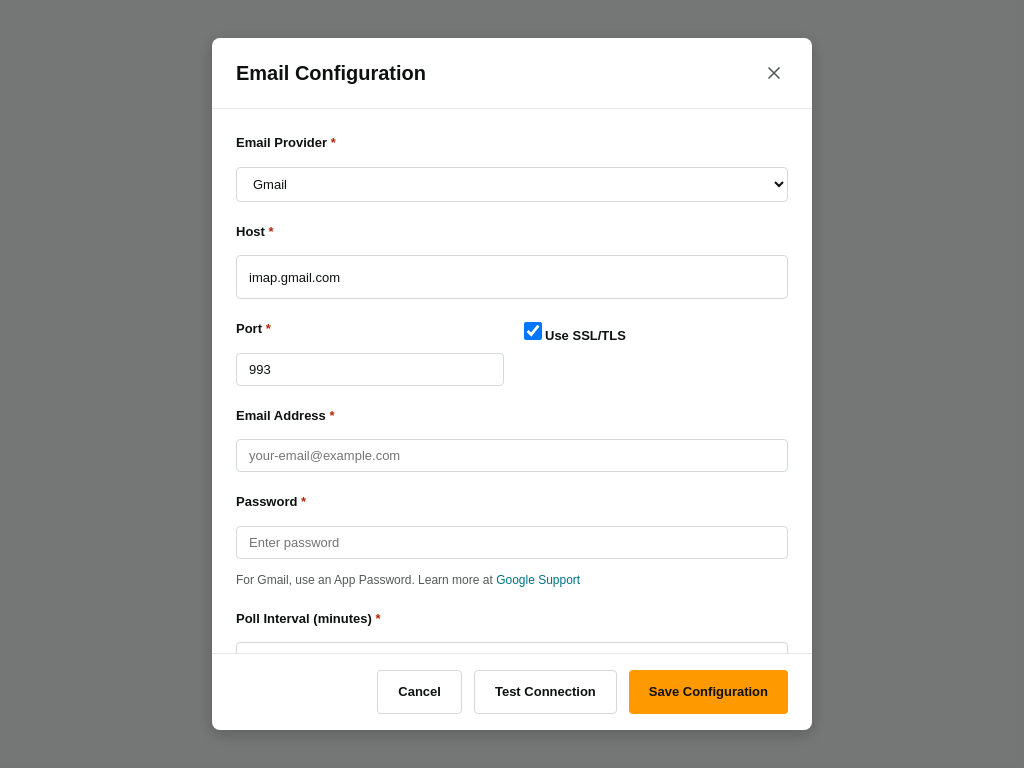
Test case: EmailConfigDialog › Form Validation › should show error when username is empty
Click the button "Save Configuration": point(708, 692) [629,670,788,714]
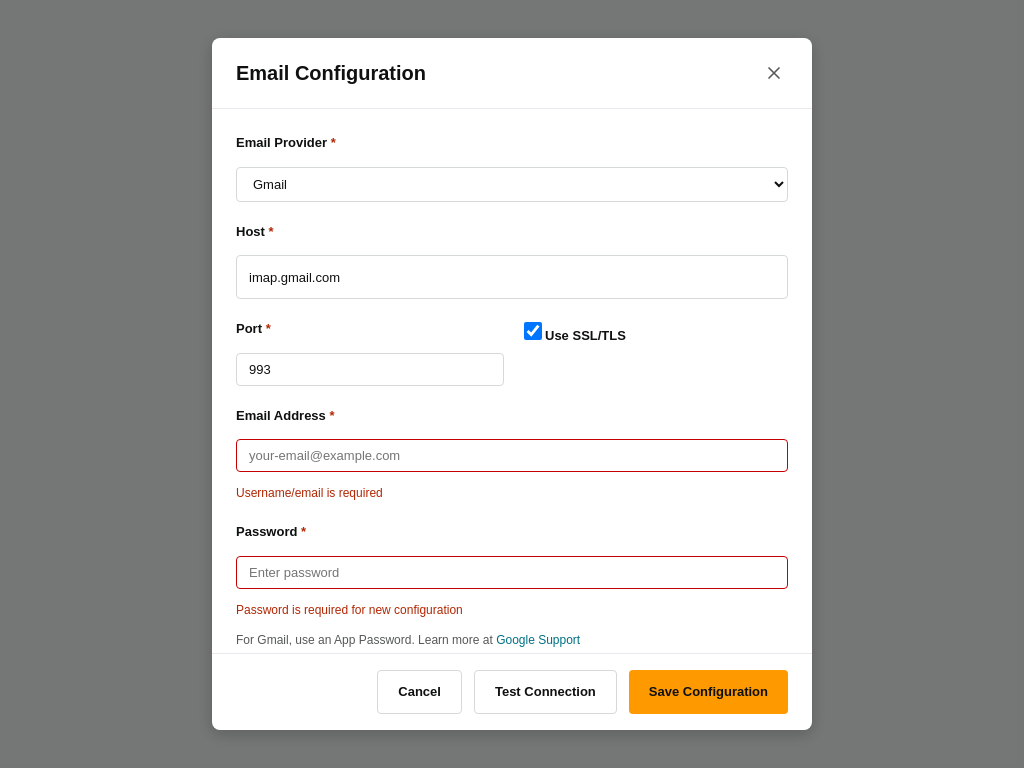
Result: the text "Username/email is required" is shown at [236,486,383,500]
